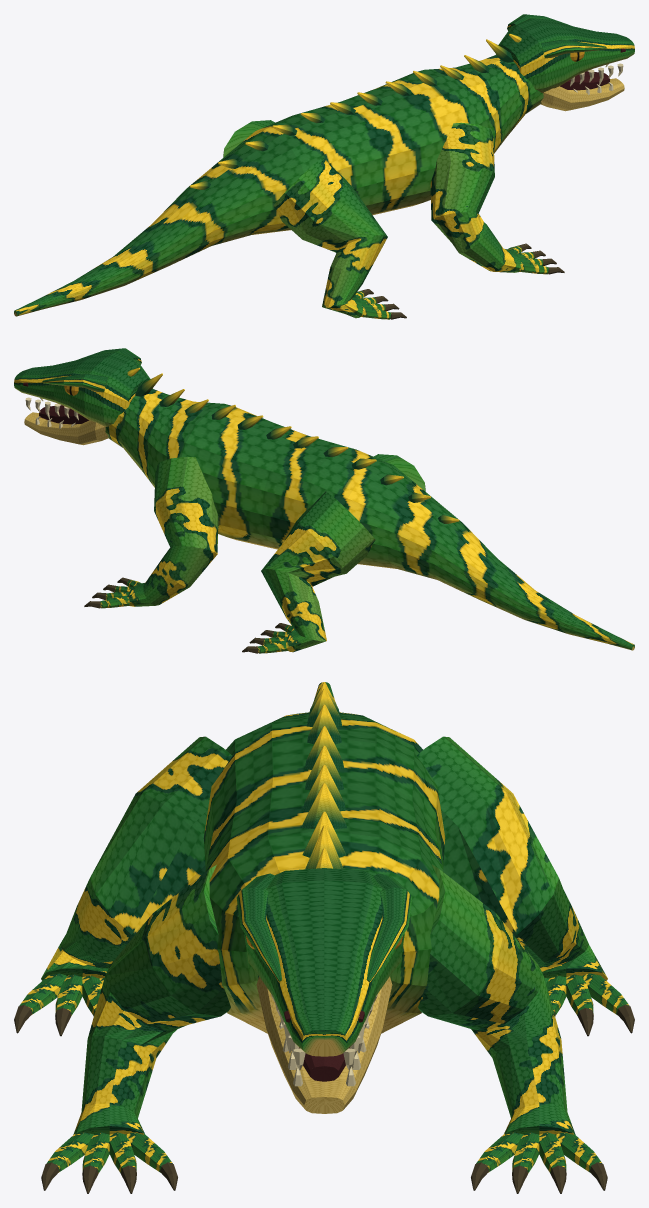
Rendered from lagarto-papagaio-v02.glb.
The picture shows the model from 3 angles, top to bottom: view 1: azimuth 30°, elevation 25°; view 2: azimuth 150°, elevation 25°; view 3: azimuth 270°, elevation 25°; orthographic projection. The views are drawn at different scales.
Parts seen in each view (by area): view 1: LagartoPapagaio_v02; view 2: LagartoPapagaio_v02; view 3: LagartoPapagaio_v02.
Boxes of the visible parts, bbox=[...] form: LagartoPapagaio_v02: bbox=[14, 14, 634, 319]; LagartoPapagaio_v02: bbox=[14, 348, 634, 653]; LagartoPapagaio_v02: bbox=[14, 682, 634, 1193].
Size of the model in its own units: 5.63 by 1.61 by 2.51.
Materials: 1 (1 with a texture image).
